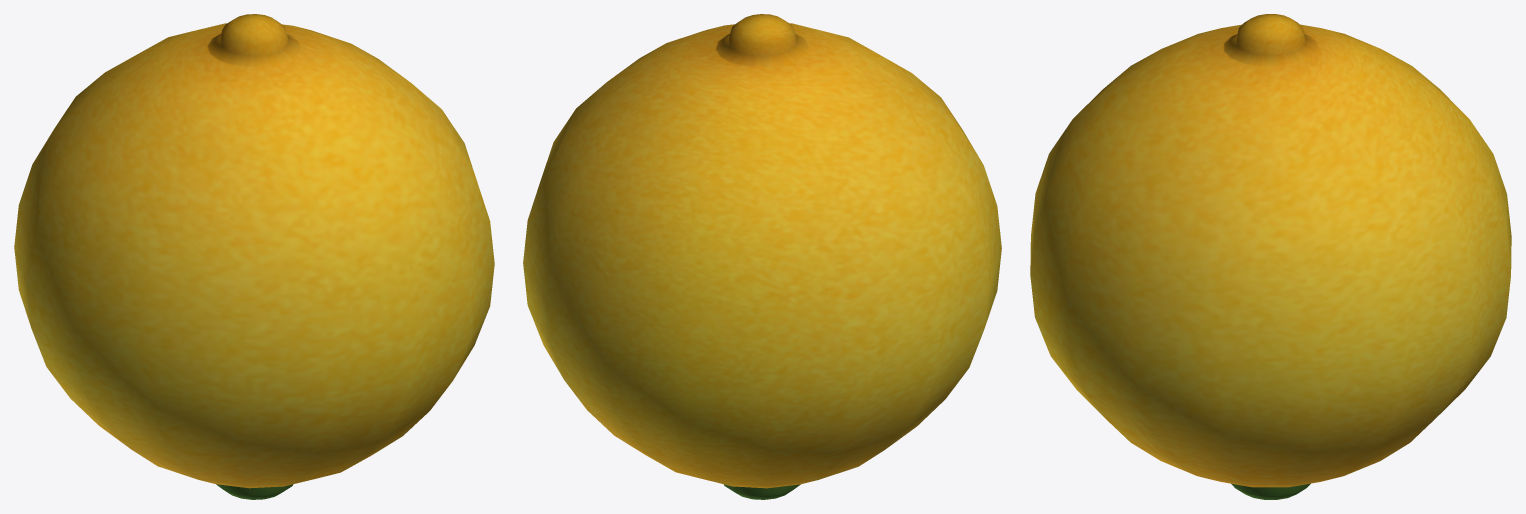
File: lemon.fbx
3 renders of one model, left to right at view 1: azimuth 30°, elevation 25°; view 2: azimuth 150°, elevation 25°; view 3: azimuth 270°, elevation 25°, orthographic.
Visible parts, largest first — view 1: lemon; view 2: lemon; view 3: lemon.
Boxes of the visible parts, box(x1,y1,x2,y2) form: lemon: box(14, 14, 494, 499); lemon: box(523, 14, 1001, 499); lemon: box(1030, 14, 1511, 499).
Bounding box in the file's own units: 71.44 × 79.86 × 73.29.
